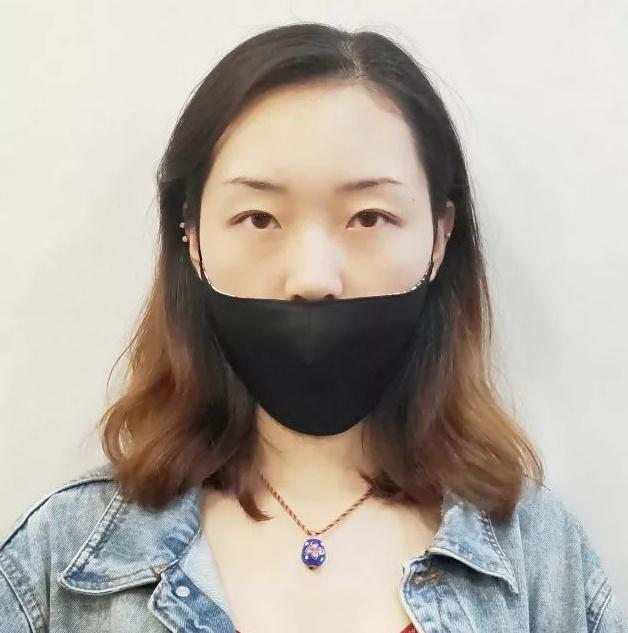WRONG: (197, 144, 431, 443)
